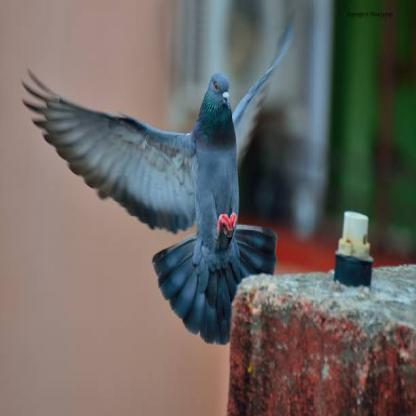Rock Pigeon: (133, 71, 271, 311)
